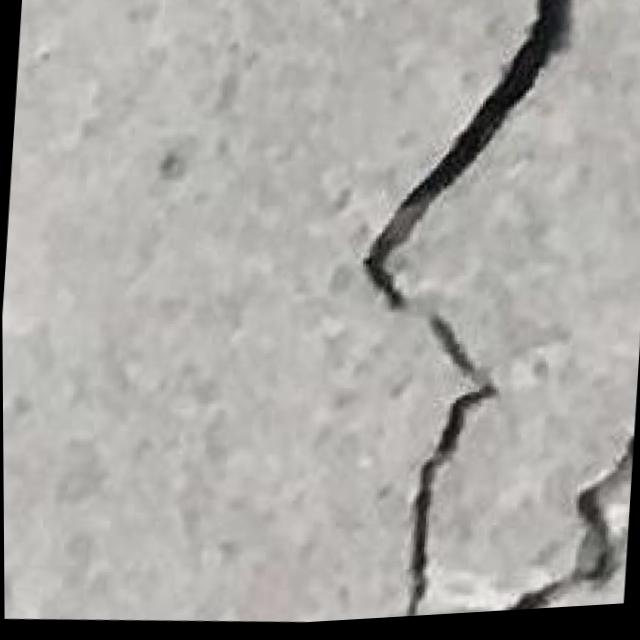Crack: (307, 0, 586, 626)
